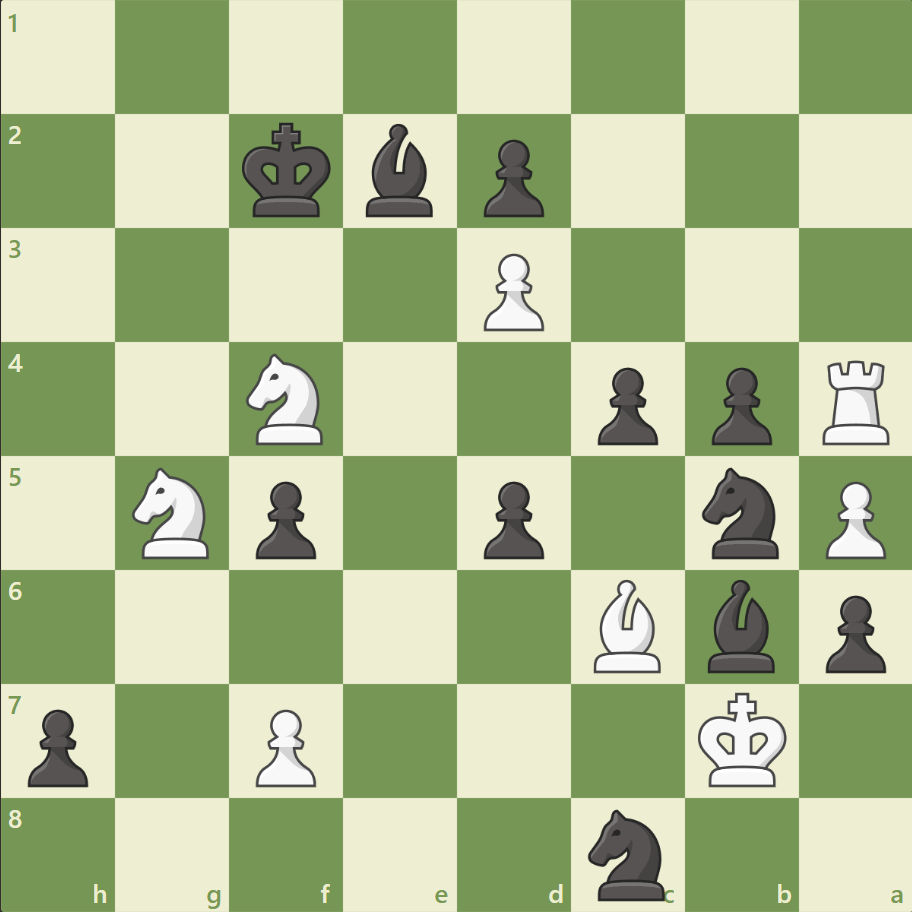B: (585, 574, 669, 676)
K: (692, 685, 792, 793)
N: (124, 461, 222, 564), (238, 348, 335, 450)
P: (247, 700, 322, 791), (474, 246, 549, 337), (815, 473, 889, 564)
R: (814, 352, 897, 449)
b: (698, 574, 782, 676), (358, 120, 442, 222)
k: (238, 117, 338, 225)
n: (692, 461, 789, 564), (579, 802, 676, 904)
p: (20, 700, 95, 791), (474, 473, 549, 564), (247, 473, 322, 564), (701, 359, 776, 450), (474, 132, 549, 223), (815, 586, 889, 677), (588, 359, 662, 450)
